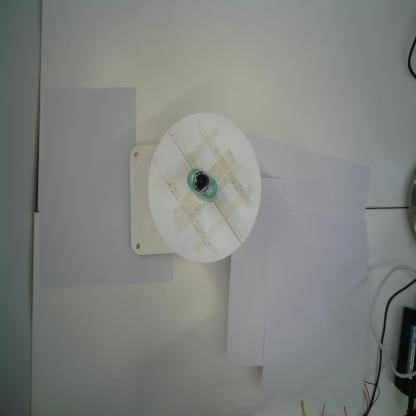Personal Hygiene: (187, 168, 218, 203)
